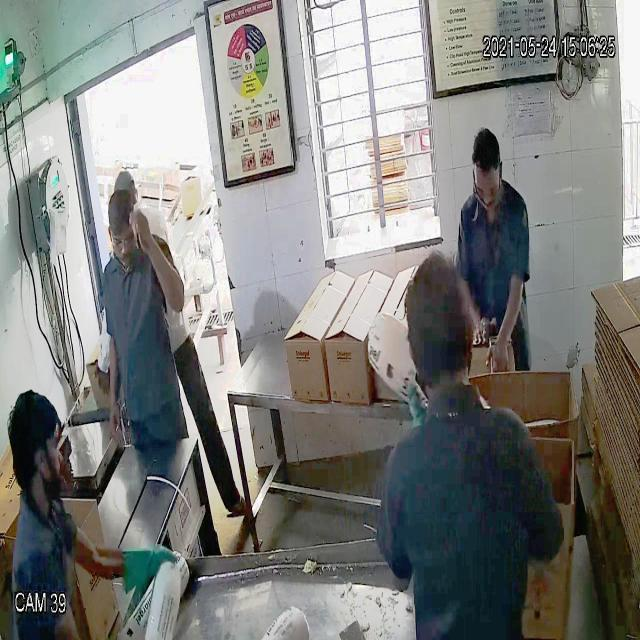glasses: (109, 226, 141, 250)
